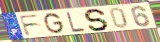0: (109, 7, 130, 29)
6: (130, 5, 151, 28)
F: (18, 13, 41, 37)
G: (44, 12, 66, 35)
L: (65, 10, 87, 33)
S: (84, 8, 110, 32)
